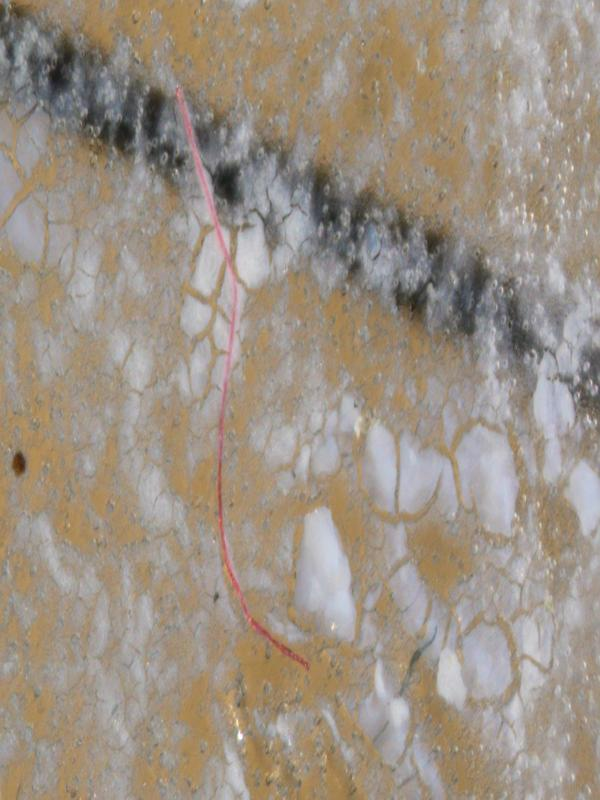microplastic: (2, 4, 598, 796), (172, 81, 312, 672)
